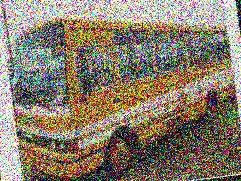bus: (3, 0, 241, 181)
